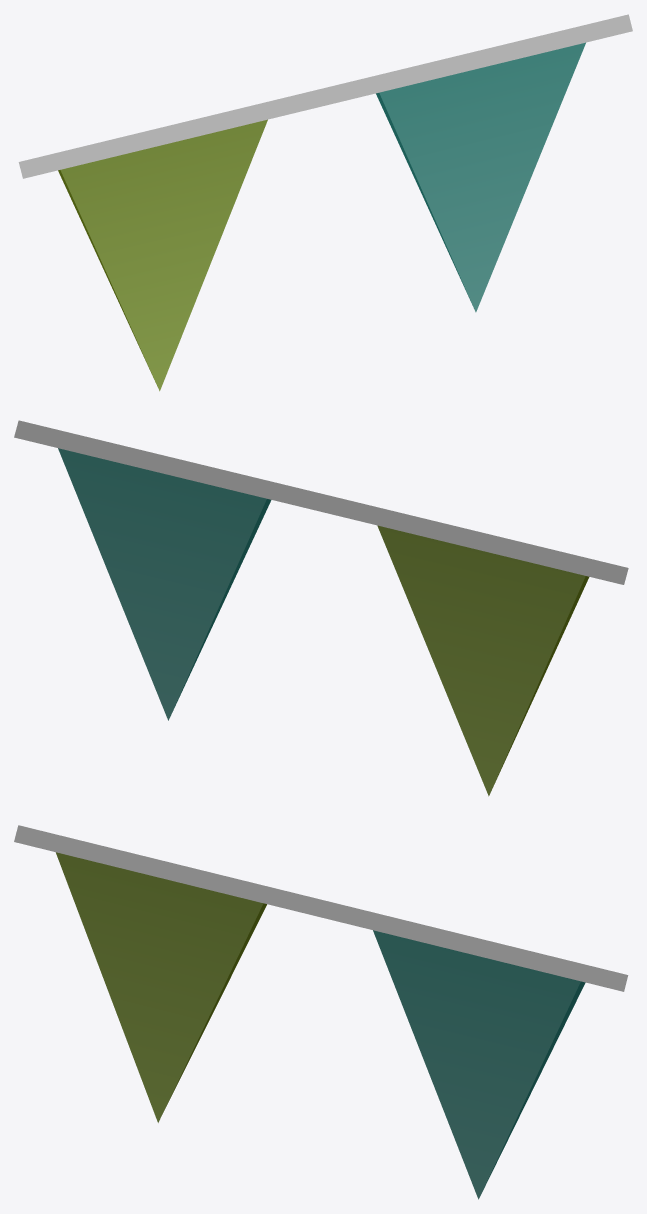
Rendered from pennantGreenCyan.glb.
The picture shows the model from 3 angles, top to bottom: view 1: azimuth 30°, elevation 25°; view 2: azimuth 150°, elevation 25°; view 3: azimuth 330°, elevation 25°; orthographic projection.
Parts seen in each view (by area): view 1: pennantGreenCyan; view 2: pennantGreenCyan; view 3: pennantGreenCyan.
Boxes of the visible parts, left/top/right/bottom form: pennantGreenCyan: left=18, top=14, right=632, bottom=391; pennantGreenCyan: left=14, top=420, right=628, bottom=796; pennantGreenCyan: left=14, top=825, right=628, bottom=1199.
Bounding box in the file's own units: 0.9588 × 0.3963 × 0.0244.
